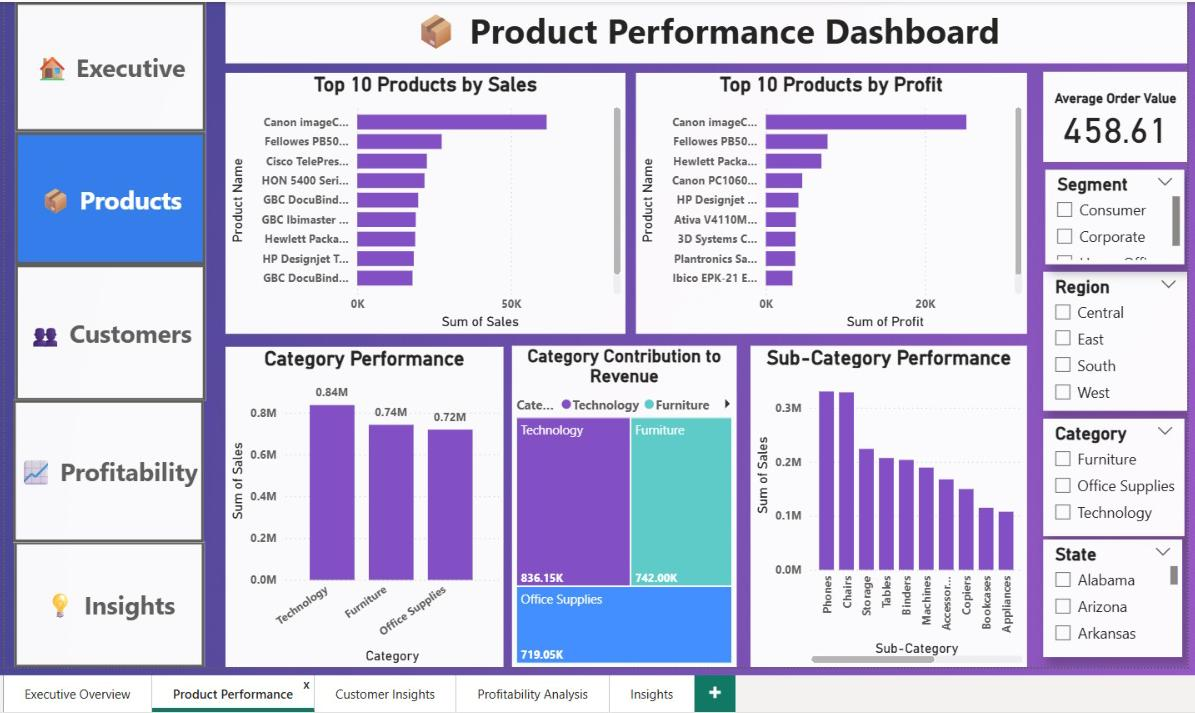

What the dashboard file says about the page in this screenshot:
{"tool":"powerbi","page":{"name":"Product Performance","canvas":[1280,720],"ordinal":1},"visuals":[{"type":"slicer","fields":{"Values":["Sample_ Superstore.Region"]},"box":[1123.8,292.3,156.5,150.4],"z":0},{"type":"actionButton","box":[10.4,584,206.1,136.3],"z":0,"group":"g1"},{"type":"actionButton","box":[11.6,0,206.1,140.4],"z":1000,"group":"g1"},{"type":"slicer","fields":{"Values":["Sample_ Superstore.Segment"]},"box":[1126.2,181,150.4,102.7],"z":1000},{"type":"actionButton","box":[11.6,140.4,206.1,143.2],"z":2000,"group":"g1"},{"type":"slicer","fields":{"Values":["Sample_ Superstore.Category"]},"box":[1123.8,451.2,152.9,127.2],"z":2000},{"type":"actionButton","box":[11.6,283.6,206.1,147.4],"z":3000,"group":"g1"},{"type":"slicer","fields":{"Values":["Sample_ Superstore.State"]},"box":[1123.8,582.1,150.4,127.2],"z":3000},{"type":"clusteredBarChart","title":"Top 10 Products by Sales","fields":{"Category":["Sample_ Superstore.Product Name"],"Y":["Sum(Sample_ Superstore.Sales)"]},"box":[238.5,77,432.9,282.5],"z":4000},{"type":"actionButton","box":[9.1,430.4,206.7,154.1],"z":4000,"group":"g1"},{"type":"clusteredBarChart","title":"Top 10 Products by Profit","fields":{"Category":["Sample_ Superstore.Product Name"],"Y":["Sum(Sample_ Superstore.Profit)"]},"box":[683.6,77,423.1,282.5],"z":5000},{"type":"clusteredColumnChart","title":"Category Performance","fields":{"Category":["Sample_ Superstore.Category"],"Y":["Sum(Sample_ Superstore.Sales)"]},"box":[238.5,373,300.8,347.3],"z":6000},{"type":"clusteredColumnChart","title":"Sub-Category Performance","fields":{"Category":["Sample_ Superstore.Sub-Category"],"Y":["Sum(Sample_ Superstore.Sales)"]},"box":[807.1,371.7,299.6,348.5],"z":7000},{"type":"treemap","title":"Category Contribution to Revenue","fields":{"Group":["Sample_ Superstore.Category"],"Values":["Sum(Sample_ Superstore.Sales)"]},"box":[549.1,371.7,243.3,348.5],"z":8000},{"type":"card","title":"Average Order Value","fields":{"Values":["Sample_ Superstore.Avg Order Value"]},"box":[1123.8,75.8,156.5,97.8],"z":9000},{"type":"textbox","box":[238.5,0,1040.6,66],"z":10000},{"type":"group","id":"g1","title":"Group 1","box":[9.1,0,208.6,720.2],"z":11000}]}

Visuals, with their boxes in screenshot pixels (x1, y1, x2, y2):
slicer - Sample_ Superstore.Region: (1038,269,1182,408)
actionButton: (13,538,202,663)
actionButton: (14,0,204,129)
slicer - Sample_ Superstore.Segment: (1040,167,1178,261)
actionButton: (14,129,204,261)
slicer - Sample_ Superstore.Category: (1038,415,1179,533)
actionButton: (14,261,204,397)
slicer - Sample_ Superstore.State: (1038,536,1176,653)
"Top 10 Products by Sales" clusteredBarChart: (223,71,621,331)
actionButton: (11,396,202,538)
"Top 10 Products by Profit" clusteredBarChart: (632,71,1022,331)
"Category Performance" clusteredColumnChart: (223,343,500,663)
"Sub-Category Performance" clusteredColumnChart: (746,342,1022,663)
"Category Contribution to Revenue" treemap: (509,342,733,663)
"Average Order Value" card: (1038,70,1182,160)
textbox: (223,0,1181,61)
"Group 1" group: (11,0,204,663)
